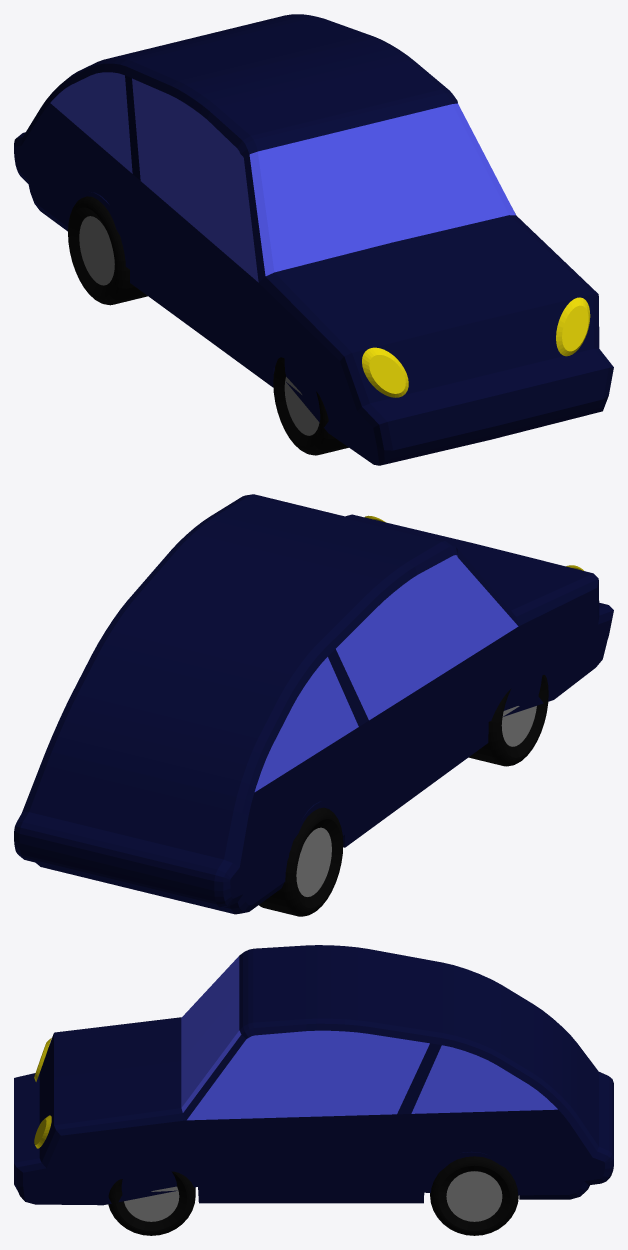
File: porsche.fbx
3 renders of one model, top to bottom at view 1: azimuth 30°, elevation 25°; view 2: azimuth 150°, elevation 25°; view 3: azimuth 270°, elevation 25°, orthographic. The views are drawn at different scales.
Visible parts, largest first — view 1: Circle, Circle.003, Circle.004, Circle.002; view 2: Circle, Circle.003, Circle.002; view 3: Circle, Circle.003, Circle.002, Circle.004.
Part boxes in pixels (x1=…): Circle: x1=14, y1=14, x2=613, y2=465; Circle.003: x1=68, y1=196, x2=147, y2=305; Circle.004: x1=362, y1=297, x2=590, y2=397; Circle.002: x1=273, y1=357, x2=348, y2=455; Circle: x1=14, y1=494, x2=613, y2=914; Circle.003: x1=259, y1=807, x2=343, y2=916; Circle.002: x1=468, y1=675, x2=548, y2=766; Circle: x1=14, y1=945, x2=613, y2=1205; Circle.003: x1=430, y1=1156, x2=518, y2=1235; Circle.002: x1=108, y1=1171, x2=195, y2=1235; Circle.004: x1=34, y1=1038, x2=51, y2=1148.
Size of the model in its own units: 535 by 533 by 1358.
